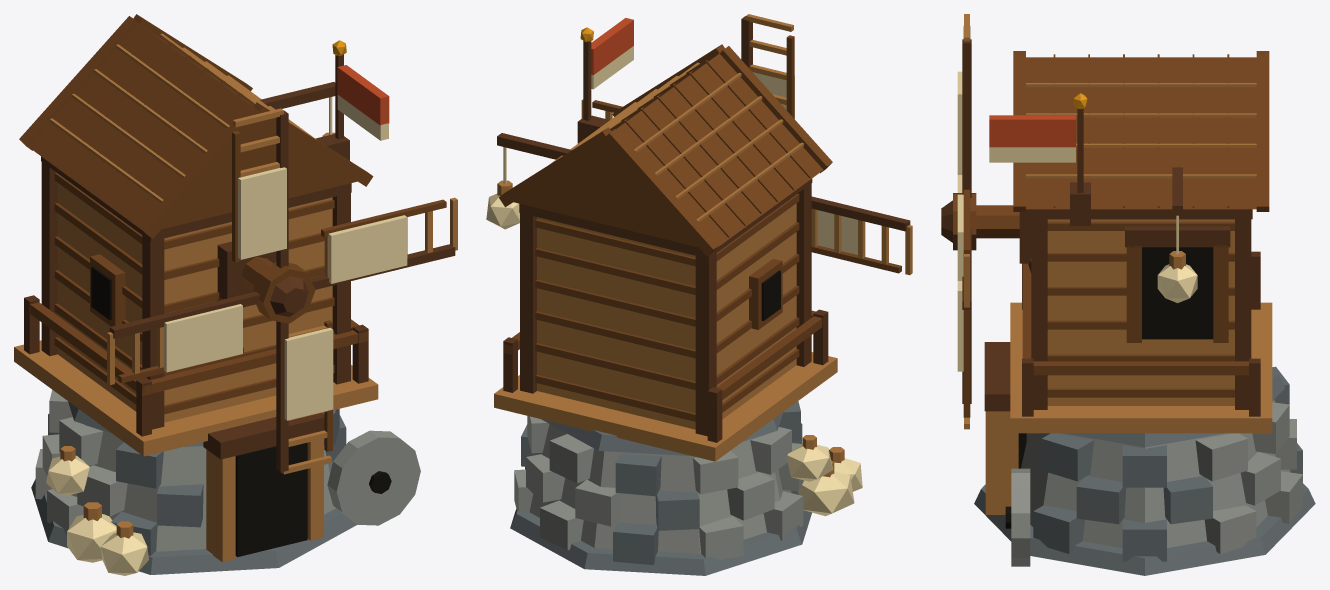
File: windmill.glb
3 renders of one model, left to right at view 1: azimuth 30°, elevation 25°; view 2: azimuth 150°, elevation 25°; view 3: azimuth 270°, elevation 25°, orthographic. The views are drawn at different scales.
Visible parts, largest first — view 1: Plank course.003, Tile course.004, Body corner post.001, Base masonry.004, Mill footing, Mill window, Flour sack.002, Canvas sail.003, Canvas sail, Canvas sail.001, Canvas sail.002, Mill pennant (+6 smaller); view 2: Plank course.003, Tile course.004, Base masonry.004, Body corner post.001, Mill footing, Flour sack.002, Mill pennant, Sail whip.002, Canvas sail.002, Mill window, Sail rail.002, Sail rail.001; view 3: Plank course.003, Tile course.004, Base masonry.004, Mill footing, Body corner post.001, Mill window, Mill pennant, Flour sack.002, Sail whip.001, Sail rail.003, Canvas sail.001, Canvas sail.003 (+2 smaller).
Boxes of the visible parts, x1=… form: Plank course.003: x1=19, y1=14, x2=373, y2=414; Tile course.004: x1=14, y1=33, x2=378, y2=562; Body corner post.001: x1=24, y1=54, x2=368, y2=459; Base masonry.004: x1=35, y1=390, x2=420, y2=551; Mill footing: x1=31, y1=401, x2=357, y2=574; Mill window: x1=91, y1=266, x2=391, y2=557; Flour sack.002: x1=46, y1=95, x2=388, y2=575; Canvas sail.003: x1=284, y1=327, x2=333, y2=420; Canvas sail: x1=328, y1=215, x2=407, y2=283; Canvas sail.001: x1=238, y1=167, x2=286, y2=259; Canvas sail.002: x1=164, y1=304, x2=242, y2=372; Mill pennant: x1=337, y1=65, x2=389, y2=125; Plank course.003: x1=499, y1=44, x2=832, y2=421; Tile course.004: x1=494, y1=62, x2=844, y2=477; Base masonry.004: x1=514, y1=416, x2=803, y2=559; Body corner post.001: x1=497, y1=41, x2=828, y2=442; Mill footing: x1=510, y1=401, x2=811, y2=575; Flour sack.002: x1=486, y1=46, x2=862, y2=516; Mill pennant: x1=591, y1=18, x2=633, y2=74; Sail whip.002: x1=811, y1=196, x2=910, y2=231; Canvas sail.002: x1=818, y1=210, x2=857, y2=254; Mill window: x1=761, y1=270, x2=780, y2=320; Sail rail.002: x1=811, y1=245, x2=901, y2=273; Sail rail.001: x1=786, y1=35, x2=794, y2=118; Plank course.003: x1=953, y1=51, x2=1269, y2=397; Tile course.004: x1=985, y1=83, x2=1272, y2=514; Base masonry.004: x1=1011, y1=399, x2=1302, y2=566; Mill footing: x1=974, y1=366, x2=1315, y2=575; Body corner post.001: x1=941, y1=108, x2=1260, y2=416; Mill window: x1=1005, y1=247, x2=1213, y2=528; Mill pennant: x1=989, y1=115, x2=1075, y2=147; Flour sack.002: x1=989, y1=147, x2=1197, y2=303; Sail whip.001: x1=962, y1=39, x2=971, y2=197; Sail rail.003: x1=963, y1=310, x2=970, y2=417; Canvas sail.001: x1=957, y1=71, x2=962, y2=174; Canvas sail.003: x1=957, y1=281, x2=963, y2=371.
Size of the model in its own units: 3.47 by 4.4 by 3.2.
